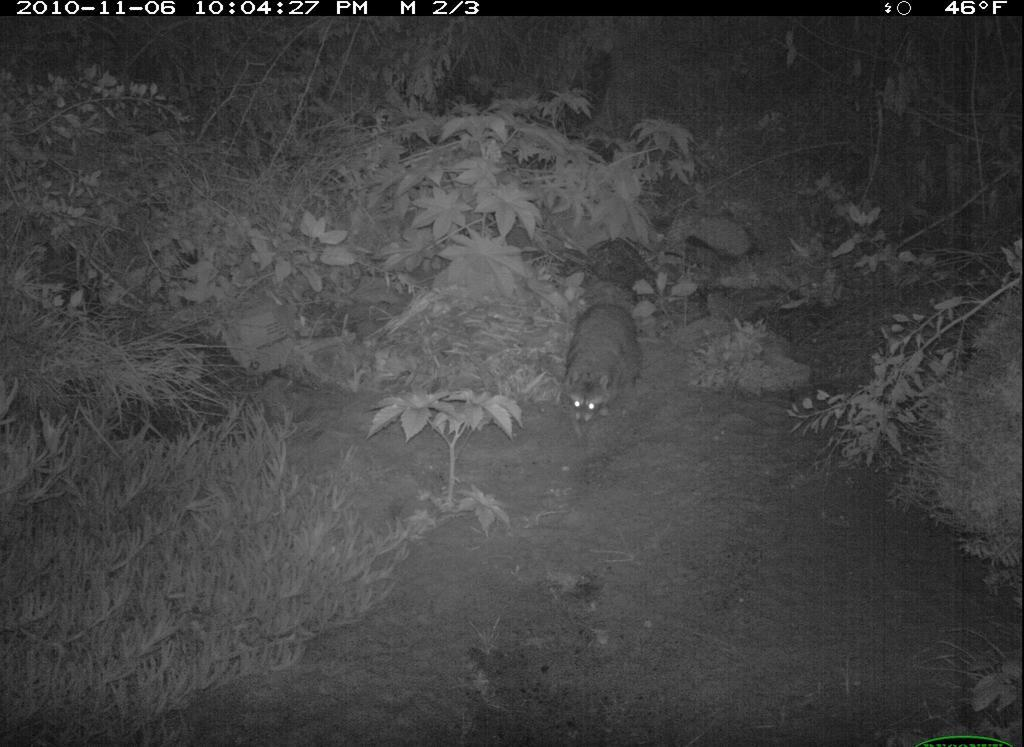raccoon: (556, 297, 652, 434)
